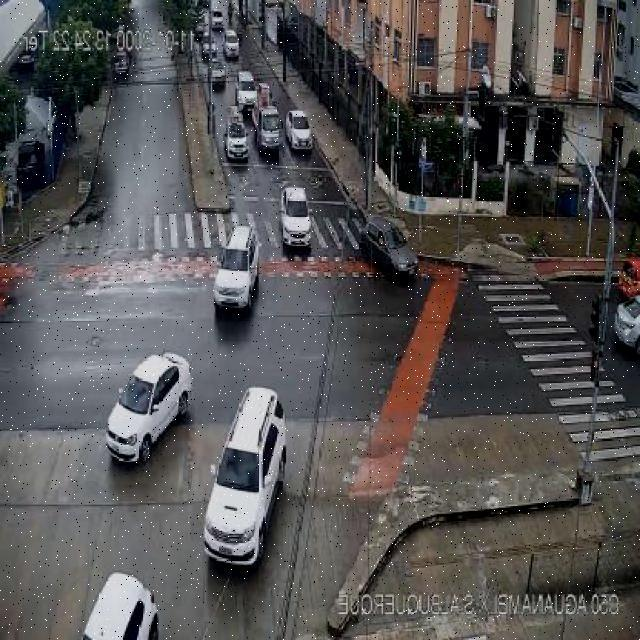Car: (203, 387, 286, 566), (106, 352, 194, 466), (212, 224, 260, 312), (358, 216, 418, 283), (278, 185, 312, 247), (284, 109, 313, 152), (224, 120, 249, 162), (235, 70, 258, 111), (113, 51, 131, 80), (222, 30, 240, 58), (209, 62, 227, 88), (202, 39, 218, 60), (211, 10, 225, 31)
Truck: (253, 84, 286, 155)
